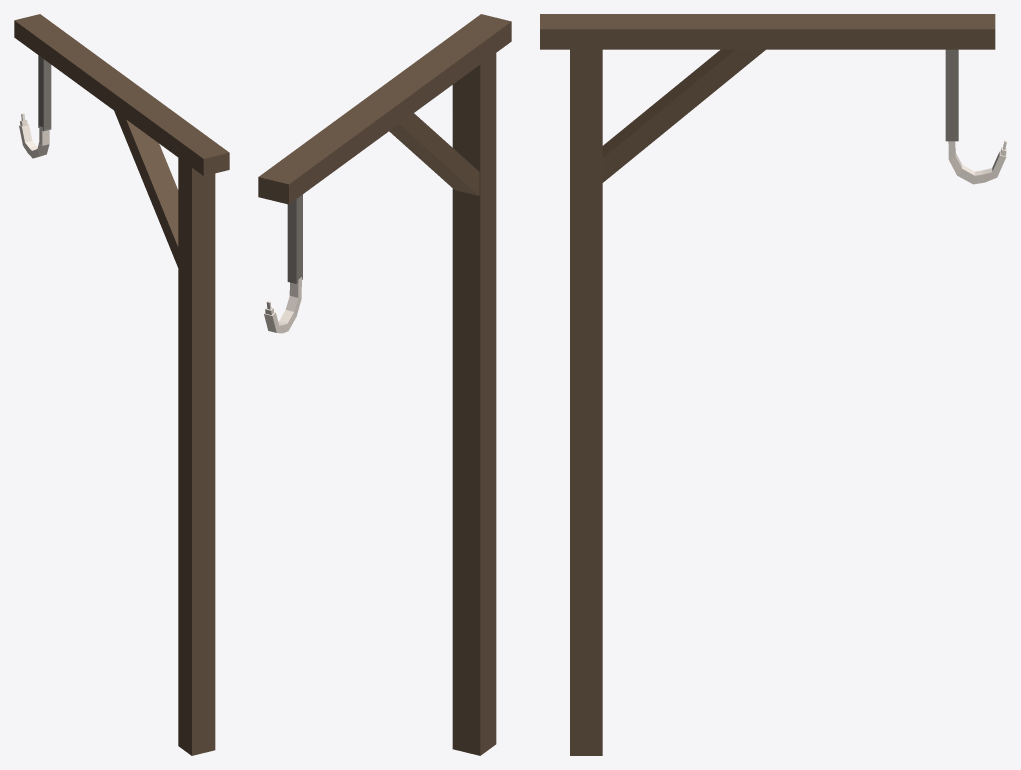
File: Poste.glb
3 renders of one model, left to right at view 1: azimuth 30°, elevation 25°; view 2: azimuth 150°, elevation 25°; view 3: azimuth 270°, elevation 25°, orthographic. The views are drawn at different scales.
Visible parts, largest first — view 1: Cube, Cube.001, Cube.002, Cylinder; view 2: Cube, Cube.001, Cube.002, Cylinder; view 3: Cube, Cube.001, Cube.002, Cylinder.
Boxes of the visible parts, x1,y1,x2,y2 form: Cube: [178, 158, 215, 755]; Cube.001: [14, 14, 229, 267]; Cube.002: [38, 55, 51, 131]; Cylinder: [19, 113, 49, 158]; Cube: [452, 53, 496, 755]; Cube.001: [258, 14, 511, 204]; Cube.002: [287, 194, 302, 283]; Cylinder: [264, 277, 301, 333]; Cube: [570, 49, 602, 755]; Cube.001: [540, 14, 995, 182]; Cube.002: [945, 49, 958, 141]; Cylinder: [948, 140, 1006, 184].
Size of what is drawn, in the model's own units: 0.6104 by 13.65 by 7.93.
4 materials, 4 textured.
